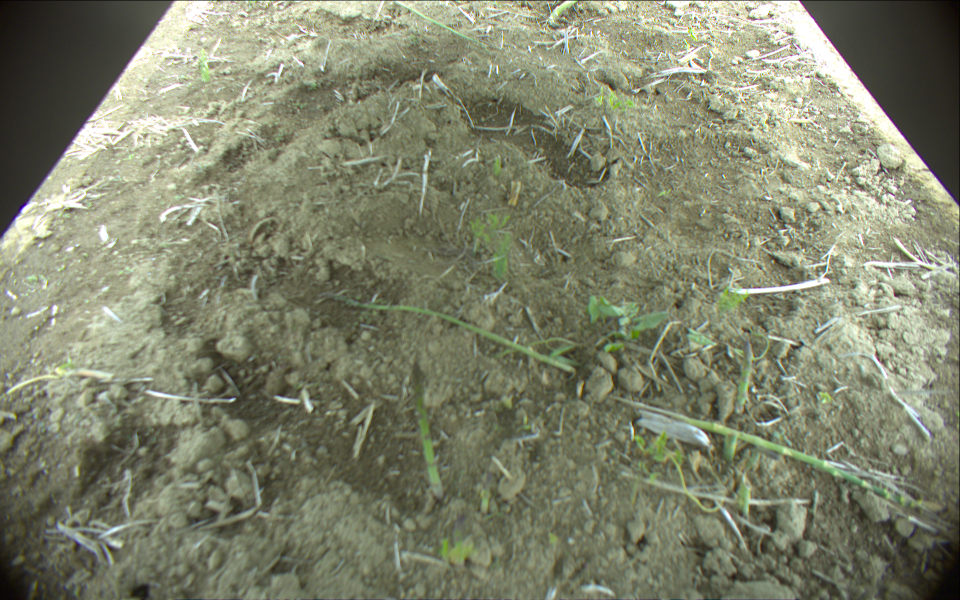aspa: (657, 414, 940, 511), (320, 292, 572, 371), (408, 366, 445, 502), (394, 1, 489, 49), (724, 341, 756, 471), (734, 476, 752, 518), (548, 1, 577, 23)
